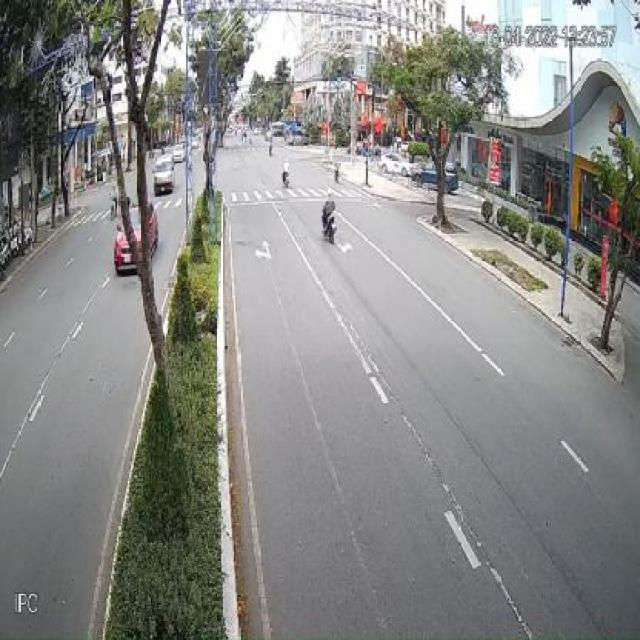car: (112, 206, 158, 270), (153, 156, 176, 196)
motorbike: (321, 197, 336, 247), (282, 165, 292, 189)
